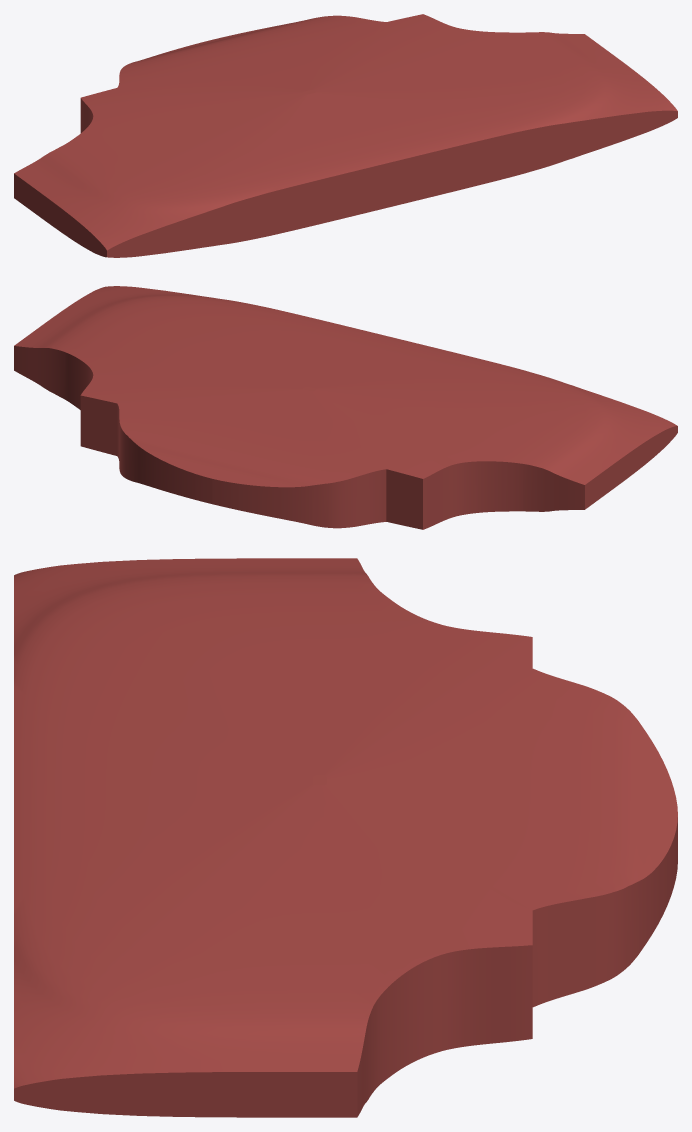
3 renders of one model, top to bottom at view 1: azimuth 30°, elevation 25°; view 2: azimuth 150°, elevation 25°; view 3: azimuth 270°, elevation 25°, orthographic. The views are drawn at different scales.
Visible parts, largest first — view 1: outline; view 2: outline; view 3: outline.
Boxes of the visible parts, bbox=[...] form: outline: bbox=[14, 14, 677, 257]; outline: bbox=[14, 286, 677, 529]; outline: bbox=[14, 558, 677, 1117].
Bounding box in the file's own units: 1.4 × 0.1465 × 0.765.
